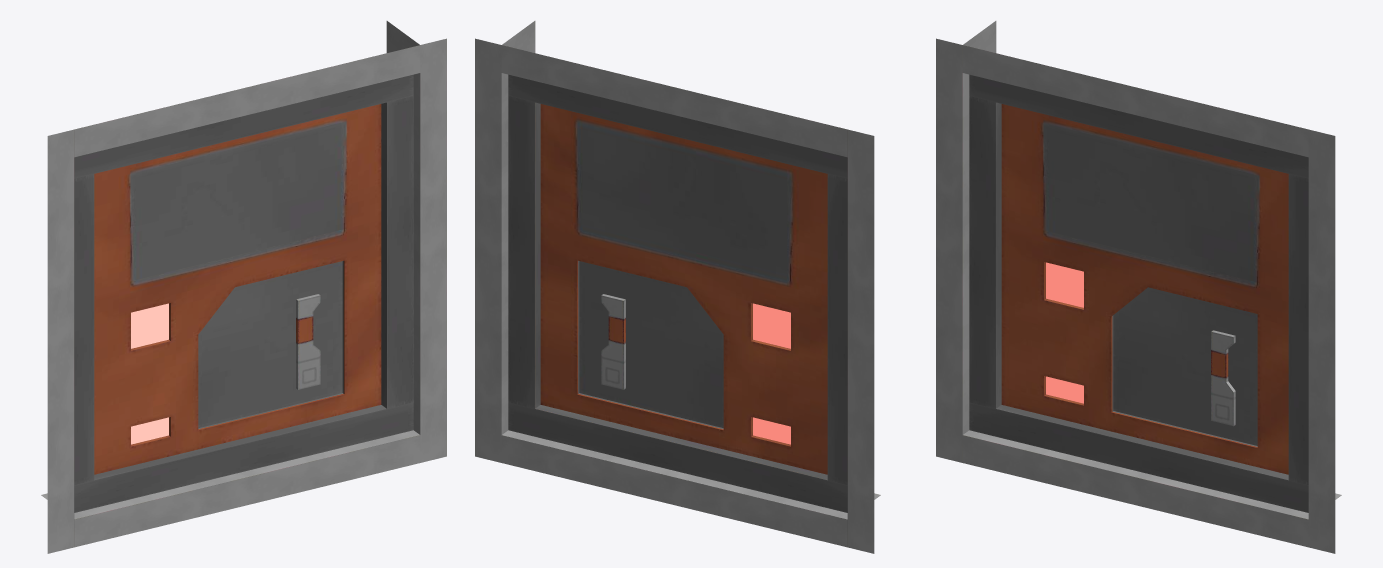
The model's file is Door_MTN_Frame.glb.
The picture shows the model from 3 angles, left to right: view 1: azimuth 30°, elevation 25°; view 2: azimuth 150°, elevation 25°; view 3: azimuth 330°, elevation 25°; orthographic projection.
Parts seen in each view (by area): view 1: Door_MTN, Door_MTN_Frame, Cube.095; view 2: Door_MTN, Door_MTN_Frame, Cube.095; view 3: Door_MTN, Door_MTN_Frame, Cube.095.
Boxes of the visible parts, bbox=[...] form: Door_MTN: bbox=[94, 104, 381, 474]; Door_MTN_Frame: bbox=[41, 21, 446, 553]; Cube.095: bbox=[296, 294, 320, 389]; Door_MTN: bbox=[540, 104, 827, 474]; Door_MTN_Frame: bbox=[475, 21, 880, 553]; Cube.095: bbox=[601, 294, 625, 389]; Door_MTN: bbox=[1001, 104, 1288, 474]; Door_MTN_Frame: bbox=[936, 21, 1341, 553]; Cube.095: bbox=[1211, 330, 1235, 426].
Bounding box in the file's own units: 1.89 × 1.89 × 0.2754.
3 materials, 2 textured.
